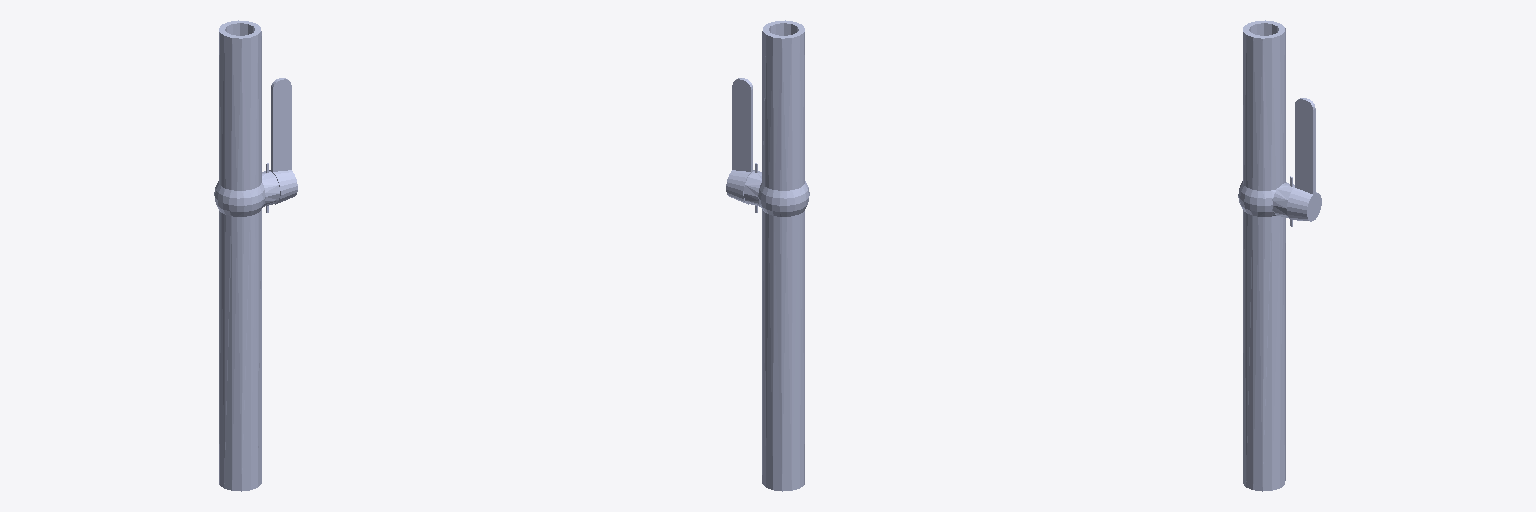
URDF robot description (Lever Action Valve_17):
<?xml version="1.0" encoding="utf-8"?>
<!-- This URDF was automatically created by SolidWorks to URDF Exporter! Originally created by Stephen Brawner (brawner@gmail.com) 
     Commit Version: 1.6.0-4-g7f85cfe  Build Version: 1.6.7995.38578
     For more information, please see http://wiki.ros.org/sw_urdf_exporter -->
<robot
  name="Lever Action Valve_17">
  <link
    name="Joint1">
    <inertial>
      <origin
        xyz="-0.0612969161199989 -0.0208110471960751 -0.00368566958444174"
        rpy="0 0 0" />
      <mass
        value="0.509220112347729" />
      <inertia
        ixx="0.0130737320923455"
        ixy="9.45756252899026E-11"
        ixz="-1.48811108482286E-05"
        iyy="0.0130795076292887"
        iyz="-4.67801496593558E-11"
        izz="0.000230266745105746" />
    </inertial>
    <visual>
      <origin
        xyz="0 0 0"
        rpy="0 0 0" />
      <geometry>
        <mesh
          filename="package://Lever Action Valve_17/meshes/Joint1.STL" />
      </geometry>
      <material
        name="">
        <color
          rgba="0.792156862745098 0.819607843137255 0.933333333333333 1" />
      </material>
    </visual>
    <collision>
      <origin
        xyz="0 0 0"
        rpy="0 0 0" />
      <geometry>
        <mesh
          filename="package://Lever Action Valve_17/meshes/Joint1.STL" />
      </geometry>
    </collision>
  </link>
  <link
    name="Joint2">
    <inertial>
      <origin
        xyz="-0.0226040077206507 -1.2490009027033E-16 -2.08166817117217E-17"
        rpy="0 0 0" />
      <mass
        value="0.0292003183169538" />
      <inertia
        ixx="2.66087900663241E-06"
        ixy="-1.82047389576919E-20"
        ixz="9.71278719685466E-39"
        iyy="7.65960849851593E-06"
        iyz="-7.56029715497403E-39"
        izz="7.65960849851593E-06" />
    </inertial>
    <visual>
      <origin
        xyz="0 0 0"
        rpy="0 0 0" />
      <geometry>
        <mesh
          filename="package://Lever Action Valve_17/meshes/Joint2.STL" />
      </geometry>
      <material
        name="">
        <color
          rgba="0.792156862745098 0.819607843137255 0.933333333333333 1" />
      </material>
    </visual>
    <collision>
      <origin
        xyz="0 0 0"
        rpy="0 0 0" />
      <geometry>
        <mesh
          filename="package://Lever Action Valve_17/meshes/Joint2.STL" />
      </geometry>
    </collision>
  </link>
  <joint
    name="Joint2"
    type="fixed">
    <origin
      xyz="0 -0.0208110485691569 0.0701492821564897"
      rpy="1.5707963267949 0 0" />
    <parent
      link="Joint1" />
    <child
      link="Joint2" />
    <axis
      xyz="1 0 0" />
    <limit
      lower="0"
      upper="1.5708"
      effort="0"
      velocity="0" />
  </joint>
  <link
    name="joint3">
    <inertial>
      <origin
        xyz="-0.0098266311138373 -4.78783679369599E-16 0.0394973851429148"
        rpy="0 0 0" />
      <mass
        value="0.0244780463145089" />
      <inertia
        ixx="4.8921091480238E-05"
        ixy="1.09320733411926E-20"
        ixz="-7.13368201305606E-07"
        iyy="4.85761024631166E-05"
        iyz="4.78440318615536E-19"
        izz="2.65296409921423E-06" />
    </inertial>
    <visual>
      <origin
        xyz="0 0 0"
        rpy="0 0 0" />
      <geometry>
        <mesh
          filename="package://Lever Action Valve_17/meshes/joint3.STL" />
      </geometry>
      <material
        name="">
        <color
          rgba="0.792156862745098 0.819607843137255 0.933333333333333 1" />
      </material>
    </visual>
    <collision>
      <origin
        xyz="0 0 0"
        rpy="0 0 0" />
      <geometry>
        <mesh
          filename="package://Lever Action Valve_17/meshes/joint3.STL" />
      </geometry>
    </collision>
  </link>
  <joint
    name="joint3"
    type="revolute">
    <origin
      xyz="0 0 0"
      rpy="-1.5708 0 0" />
    <parent
      link="Joint2" />
    <child
      link="joint3" />
    <axis
      xyz="1 0 0" />
    <limit
      lower="-1.570796"
      upper="0"
      effort="0"
      velocity="0" />
  </joint>
</robot>

--- Facts derived from the render (not from the file) ---
3 views of the same robot in one strip: view 1: azimuth 30°, elevation 25°; view 2: azimuth 150°, elevation 25°; view 3: azimuth 330°, elevation 25° (orthographic).
Model Lever Action Valve_17 with 3 links and 2 joints (1 revolute, 1 fixed), rooted at Joint1, posed all joints at 0.
Visible links, largest first — view 1: Joint1, joint3; view 2: Joint1, joint3; view 3: Joint1, joint3.
Boxes of the visible links, x1=… form: Joint1: x1=214, y1=20, x2=279, y2=491; joint3: x1=269, y1=78, x2=297, y2=204; Joint1: x1=744, y1=20, x2=809, y2=491; joint3: x1=726, y1=78, x2=754, y2=204; Joint1: x1=1238, y1=20, x2=1294, y2=491; joint3: x1=1287, y1=98, x2=1321, y2=221.
Bounding box of the posed robot: 0.0936 × 0.058 × 0.556 m (x, y, z).
Meshes: 3 distinct files referenced, 3 mesh visuals loaded (3 binary STL).
